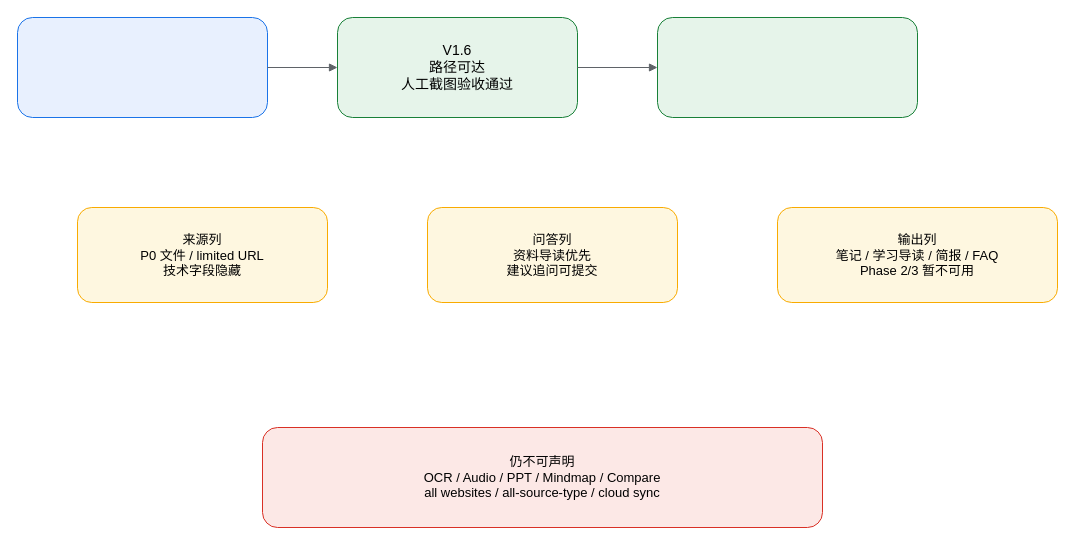
Image size: 1075x545. Some labels were removed from this diagram. The shapes that lost their labels are listed below. From the top down, each one's box as (x1, y1, x2, y2) in pixels, then its label:
(16, 16, 268, 118): PRD MVP 来源 / 问答 / 输出 Guide-first 三列体验
(656, 16, 918, 118): V1.7 UX Recomposition 普通用户可操作
